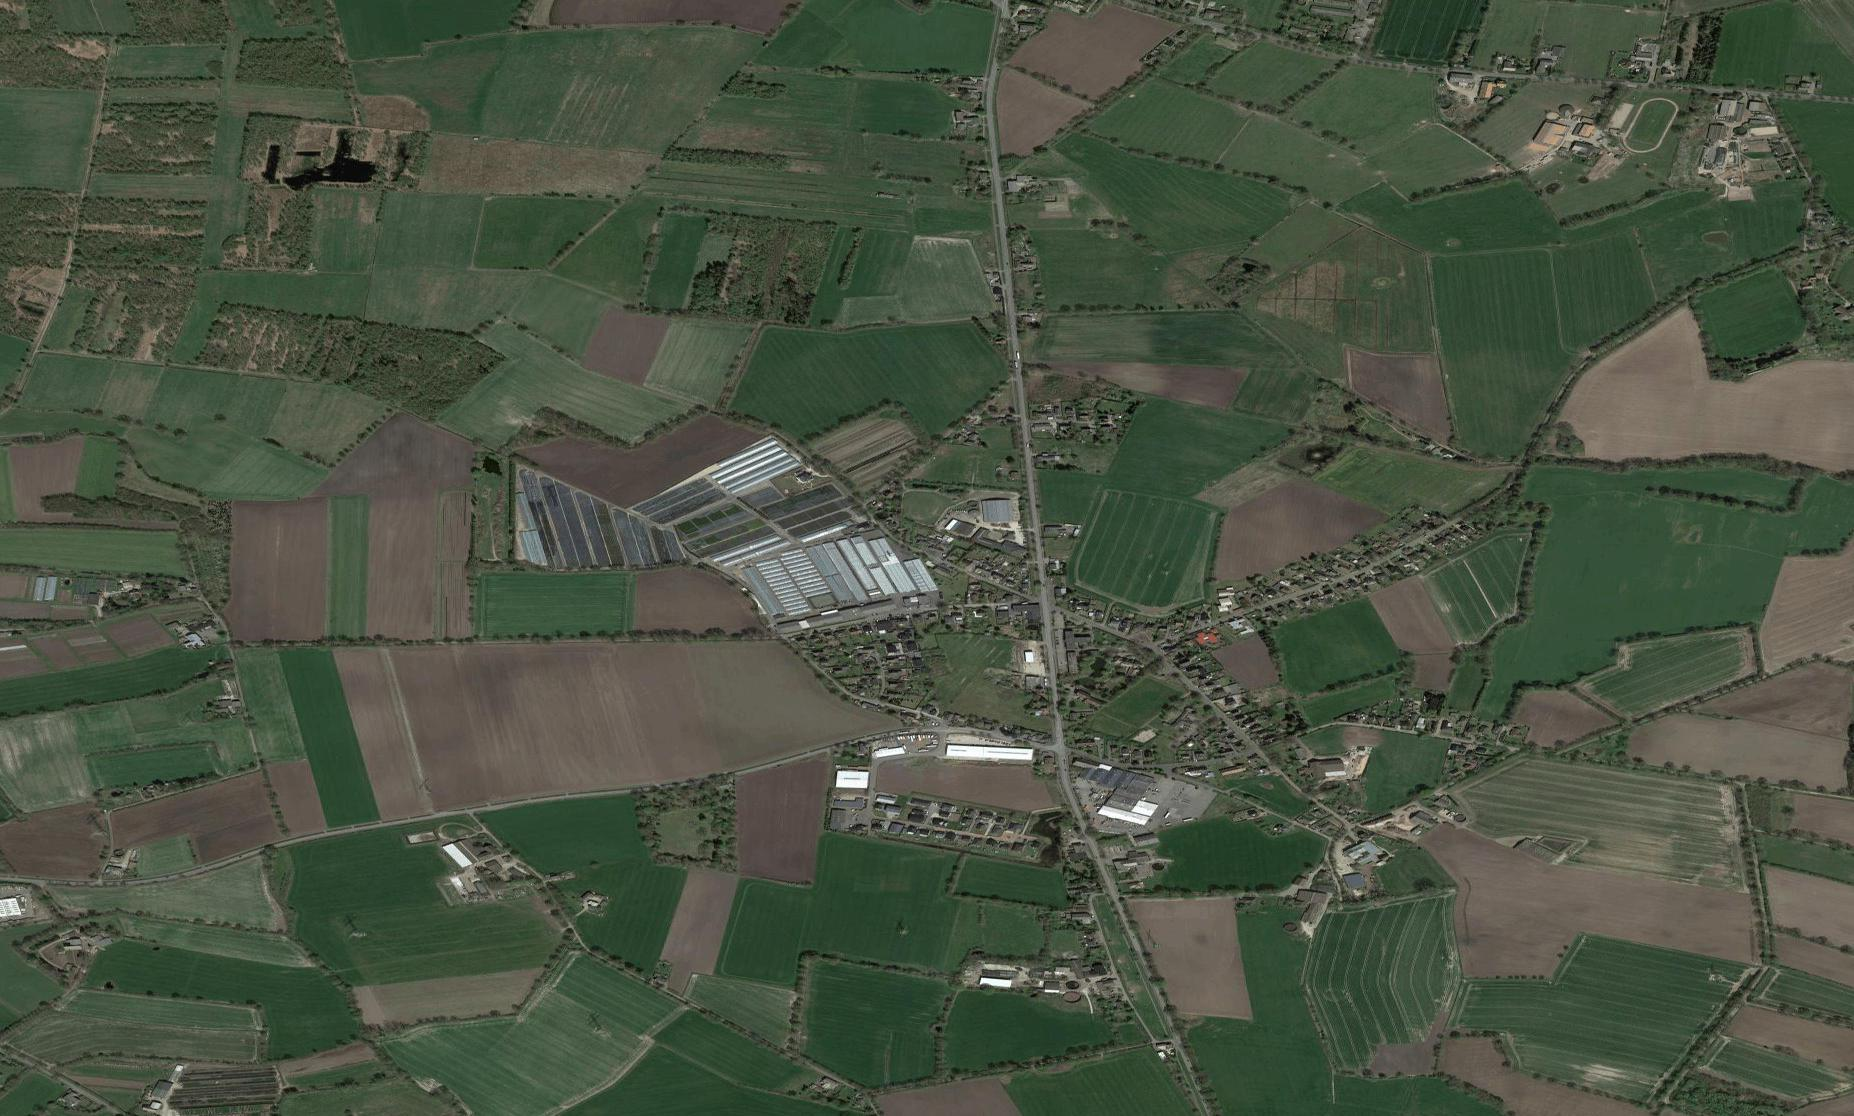industrial: (498, 443, 928, 665)
motorway: (984, 216, 1029, 434), (1014, 432, 1059, 650), (1040, 653, 1089, 846), (979, 1, 1017, 224)
